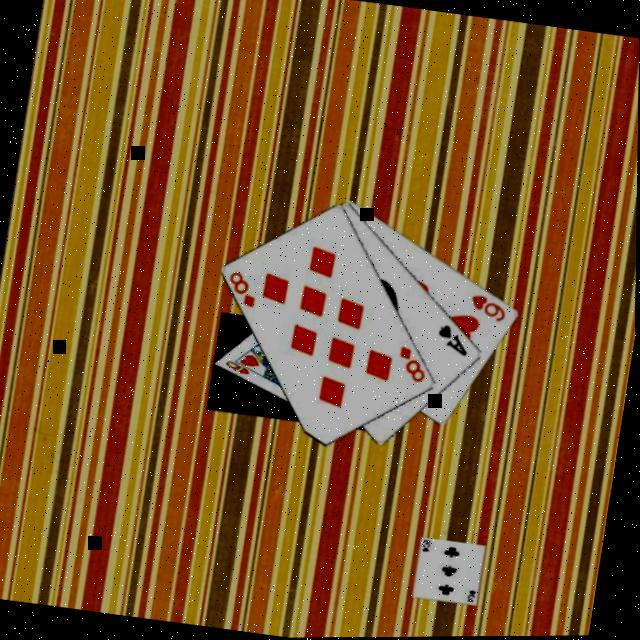6H: (467, 292, 513, 328)
8D: (224, 268, 264, 312), (395, 344, 434, 386)
AS: (434, 322, 476, 362)
